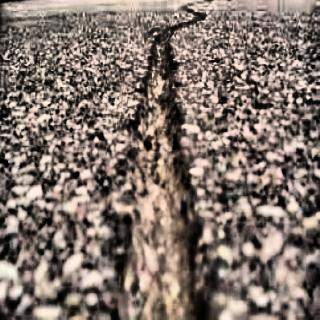crack: (117, 1, 213, 320)
